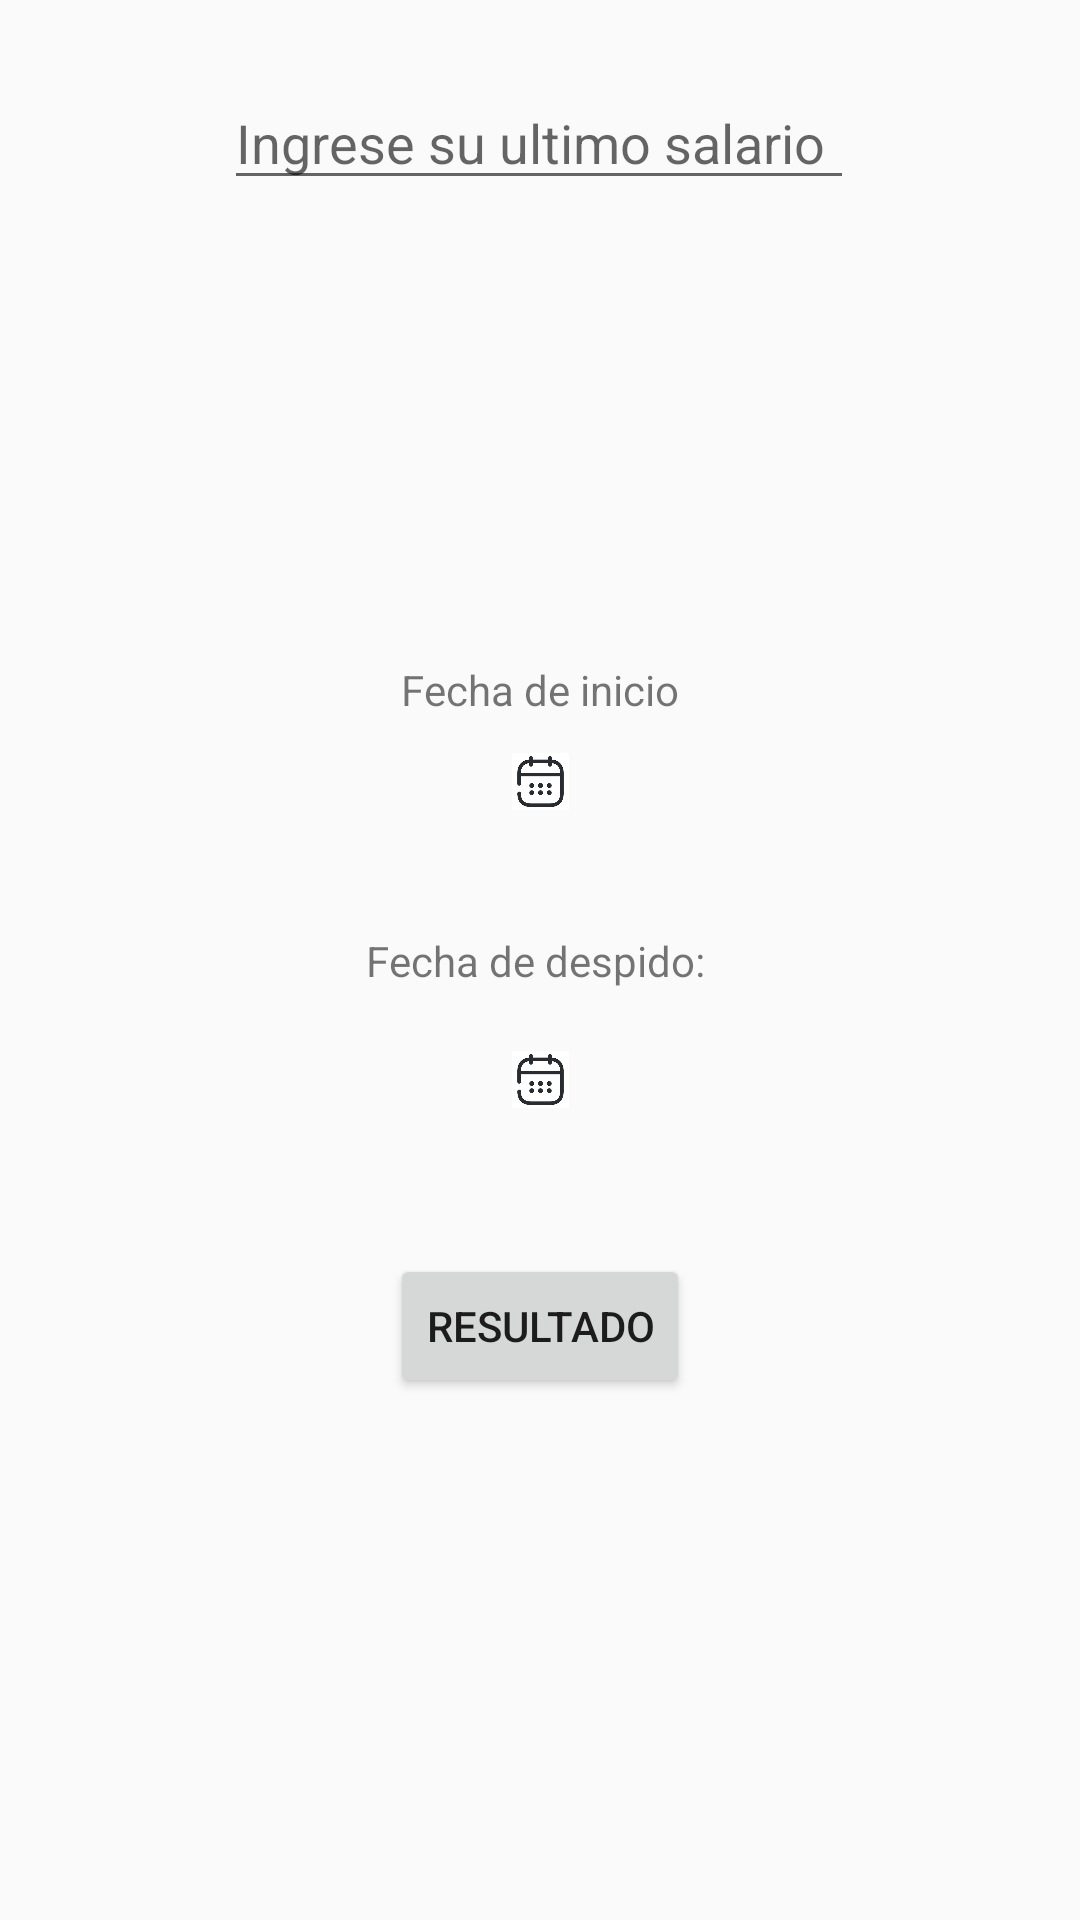

Where to tap for icons on this 1080×1920 app screen, as (x,y):
calendario: (540,781), (540,1079)
